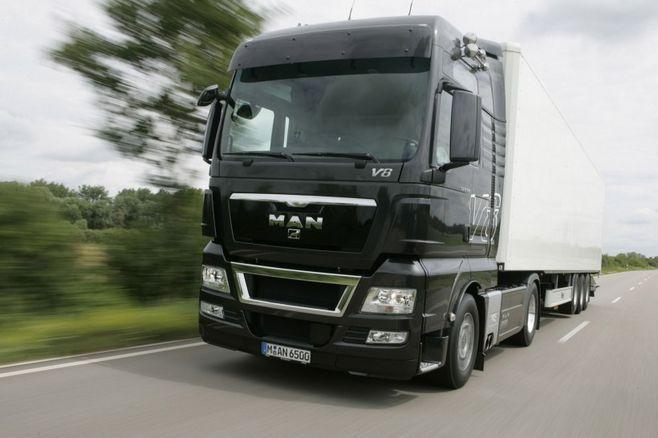卡车: (191, 8, 634, 413)
